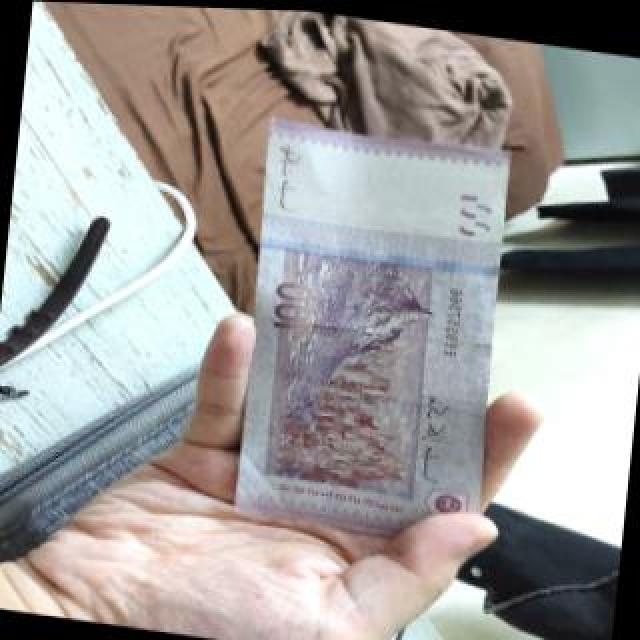100 Ringgit: (230, 112, 512, 544)
